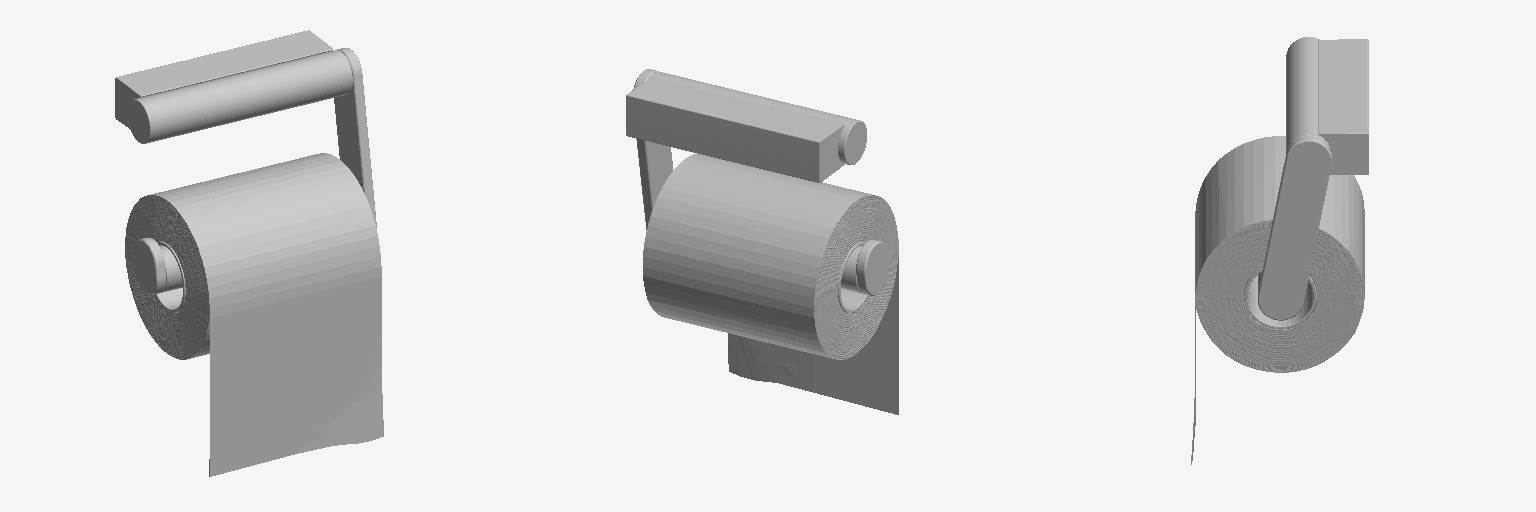
The model's file is papel.obj.
3 views of the same model, side by side, from view 1: azimuth 30°, elevation 25°; view 2: azimuth 150°, elevation 25°; view 3: azimuth 270°, elevation 25° (orthographic).
Visible parts, largest first — view 1: Arch46_049_9.001, Arch46_049_8.001, papel.001, Arch46_049_7.001; view 2: Arch46_049_9.001, papel.001, Arch46_049_7.001, Arch46_049_8.001; view 3: Arch46_049_9.001, Arch46_049_7.001, papel.001, Arch46_049_8.001.
Boxes of the visible parts, x1=… form: Arch46_049_9.001: x1=125, y1=153, x2=383, y2=476; Arch46_049_8.001: x1=128, y1=50, x2=352, y2=143; papel.001: x1=115, y1=30, x2=333, y2=128; Arch46_049_7.001: x1=133, y1=48, x2=376, y2=294; Arch46_049_9.001: x1=643, y1=154, x2=898, y2=414; papel.001: x1=626, y1=77, x2=844, y2=182; Arch46_049_7.001: x1=633, y1=69, x2=888, y2=295; Arch46_049_8.001: x1=649, y1=71, x2=866, y2=164; Arch46_049_9.001: x1=1191, y1=136, x2=1364, y2=464; Arch46_049_7.001: x1=1258, y1=136, x2=1331, y2=320; papel.001: x1=1318, y1=39, x2=1368, y2=174; Arch46_049_8.001: x1=1286, y1=37, x2=1331, y2=152.
Bounding box in the file's own units: 0.1249 × 0.184 × 0.0874.